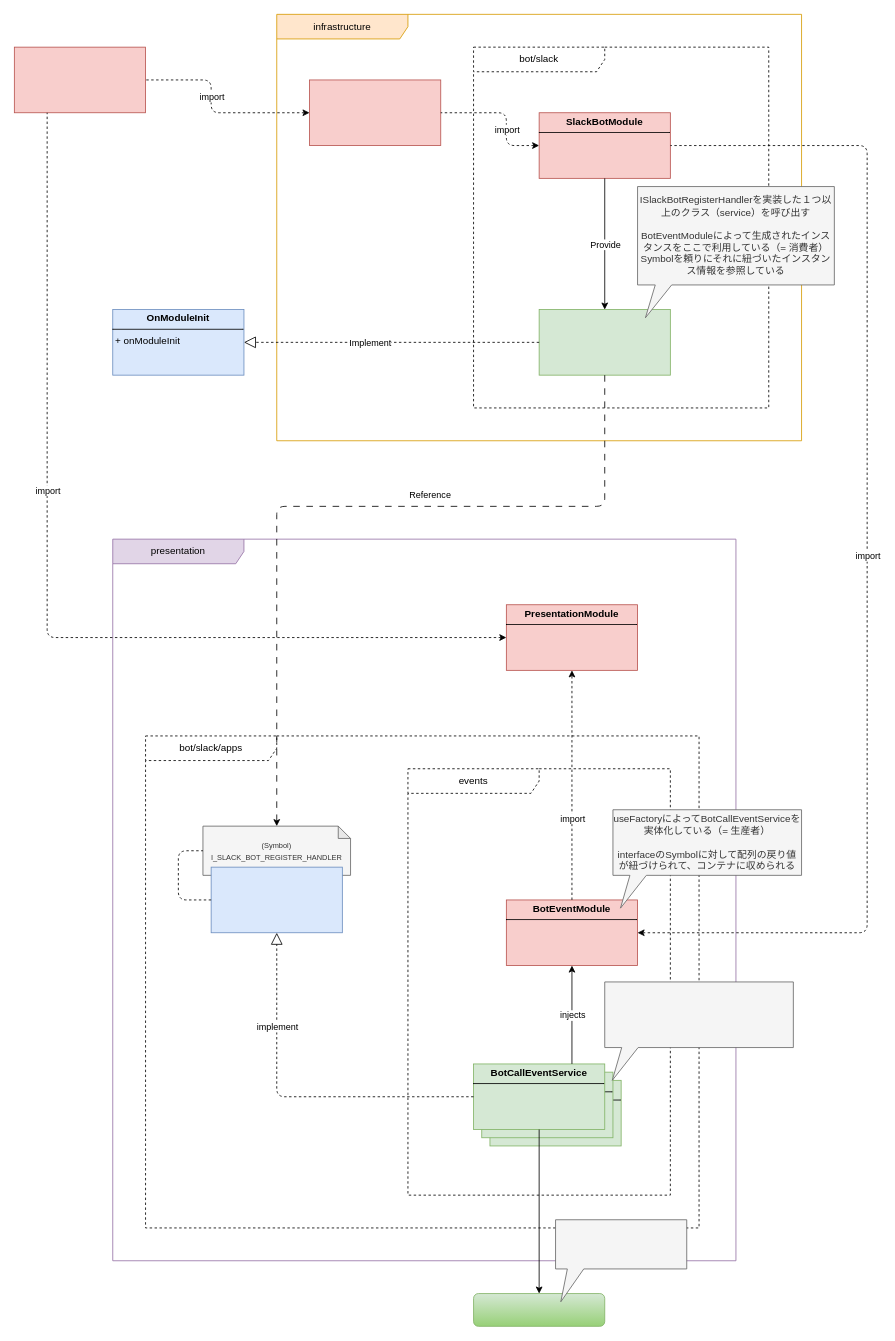
Image size: 895x1341. Some labels were removed from this diagram. The centre of each missing label's shape, as x and y in pixels:
"(Slack) app.*" goes at pixel 539 1309.
"app.eventだとかslackのboltのイベント処理の実態" goes at pixel 621 1260.
"AppModule" goes at pixel 80 79.
"InfrastructureModule" goes at pixel 375 112.
"ISlackBotRegisterHandler + register(app: AppClass)" goes at pixel 276 899.
"SlackRouterRepositoryService" goes at pixel 604 342.
"イベントハンドラーをserviceごとに分ける場合はクラスごと切り出して BotEventModuleの配列に追加していく" goes at pixel 698 1030.
